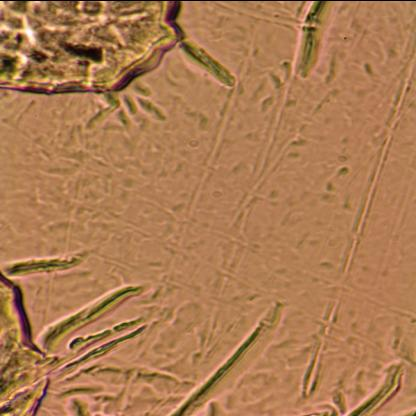Normal: (0, 0, 205, 114)
